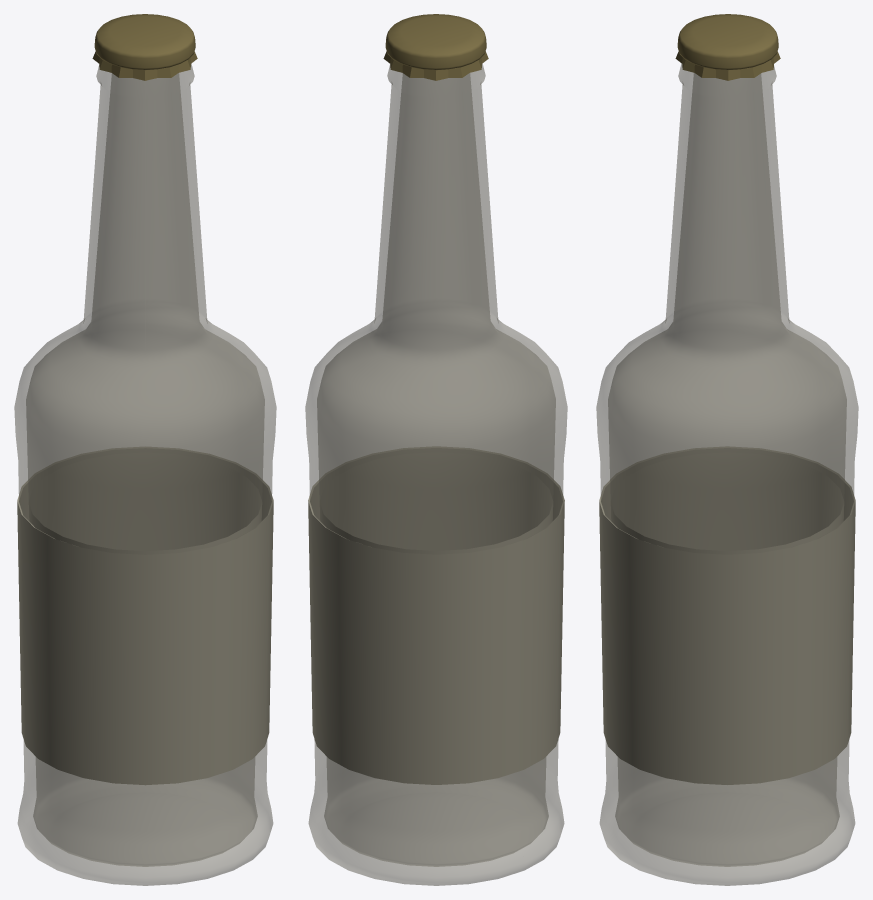
Rendered from Bottle_WithCap_WithLabel.fbx.
3 views of the same model, side by side, from view 1: azimuth 30°, elevation 25°; view 2: azimuth 150°, elevation 25°; view 3: azimuth 270°, elevation 25° (orthographic).
Parts seen in each view (by area): view 1: Glass_Bottle_Labeled, Bottle_Cap1; view 2: Glass_Bottle_Labeled, Bottle_Cap1; view 3: Glass_Bottle_Labeled, Bottle_Cap1.
Boxes of the visible parts, left/top/right/bottom form: Glass_Bottle_Labeled: left=14, top=64, right=276, bottom=885; Bottle_Cap1: left=92, top=14, right=197, bottom=80; Glass_Bottle_Labeled: left=305, top=64, right=567, bottom=885; Bottle_Cap1: left=383, top=14, right=488, bottom=80; Glass_Bottle_Labeled: left=596, top=63, right=858, bottom=885; Bottle_Cap1: left=675, top=14, right=780, bottom=80.
Size of the model in its own units: 52.06 by 176 by 52.06.
